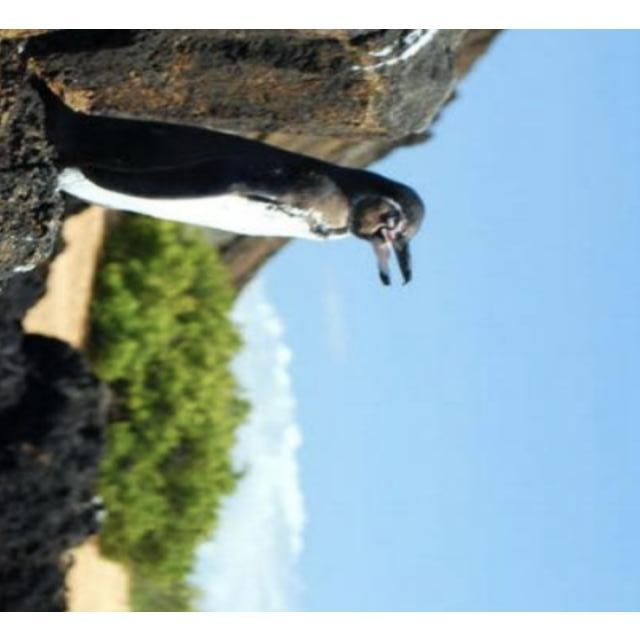penguin: (42, 74, 424, 289)
